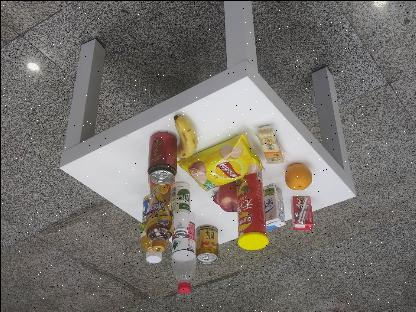Can: (148, 131, 176, 184), (195, 225, 217, 261)
Others: (233, 170, 270, 250), (260, 181, 286, 231), (289, 194, 317, 232)
Plastic Bottle: (168, 210, 198, 296)
